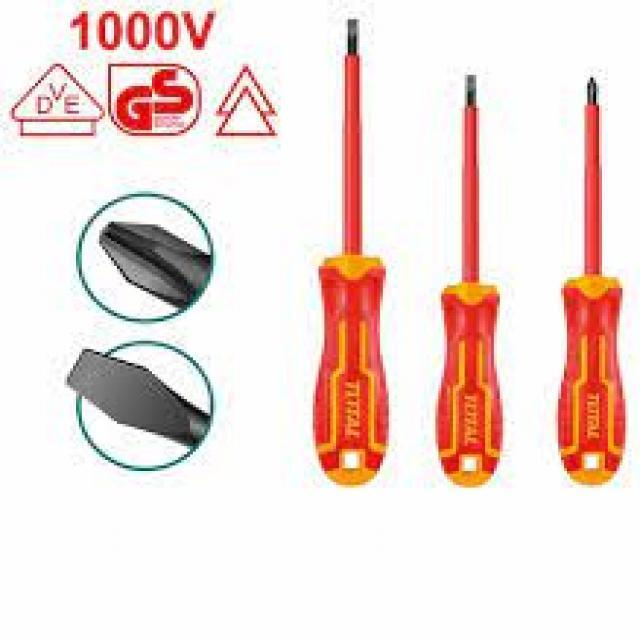screwdriver: (312, 11, 400, 490), (428, 72, 516, 488), (552, 73, 632, 489)
